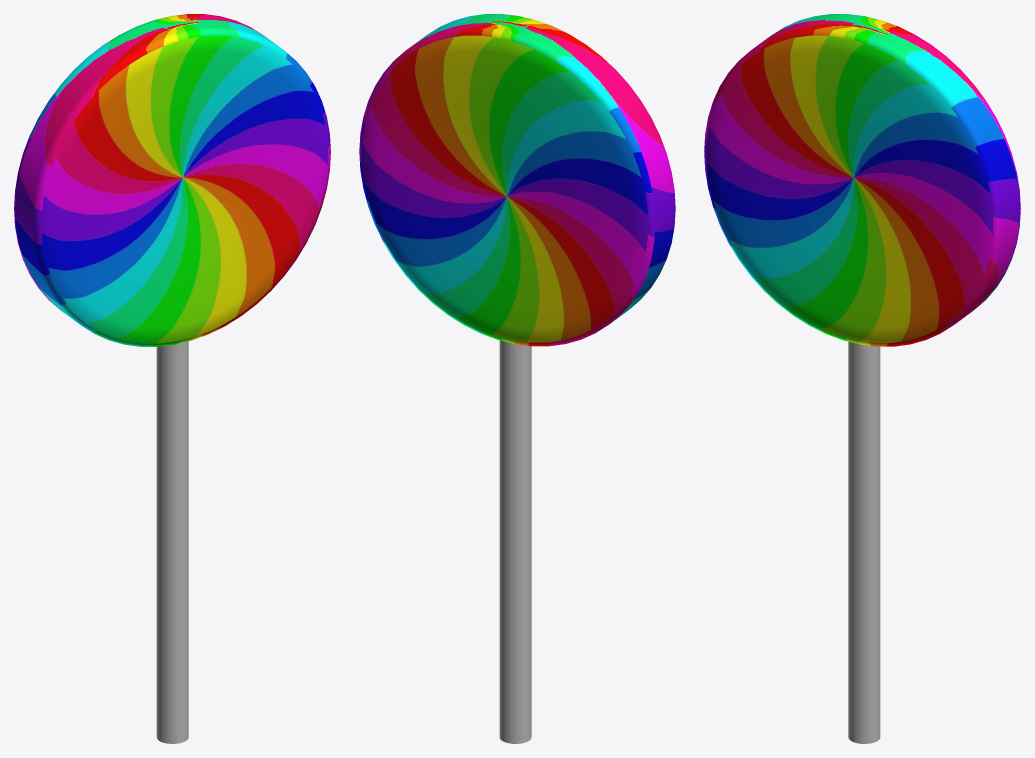
File: lollipopSingle.fbx
3 views of the same model, side by side, from view 1: azimuth 30°, elevation 25°; view 2: azimuth 150°, elevation 25°; view 3: azimuth 330°, elevation 25° (orthographic).
Visible parts, largest first — view 1: pCylinder2, pCylinder1; view 2: pCylinder2, pCylinder1; view 3: pCylinder2, pCylinder1.
Boxes of the visible parts, x1=… form: pCylinder2: x1=14, y1=14, x2=330, y2=346; pCylinder1: x1=156, y1=341, x2=188, y2=743; pCylinder2: x1=359, y1=14, x2=675, y2=346; pCylinder1: x1=499, y1=340, x2=531, y2=743; pCylinder2: x1=704, y1=14, x2=1020, y2=346; pCylinder1: x1=848, y1=341, x2=880, y2=743.
Bounding box in the file's own units: 3.93 × 9.03 × 0.5926.
